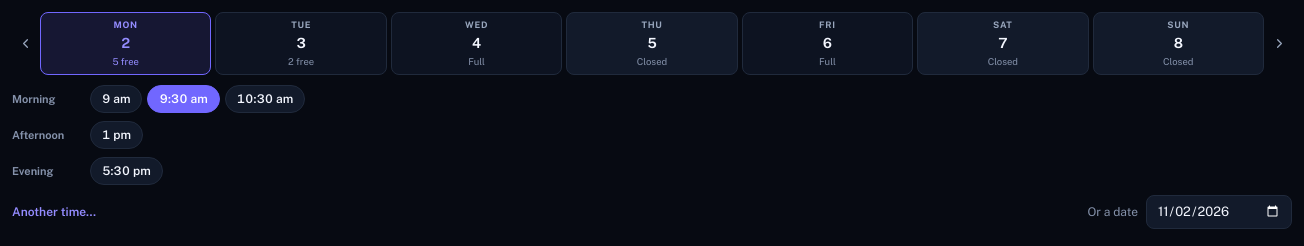
Scenario: the free-time picker › keeps the time chosen while another week is looked at
What coordinates should you click on to do the following:
click the button named "The week after"
I would click on:
 (1279, 43)
Its box is [1266,23,1292,63].
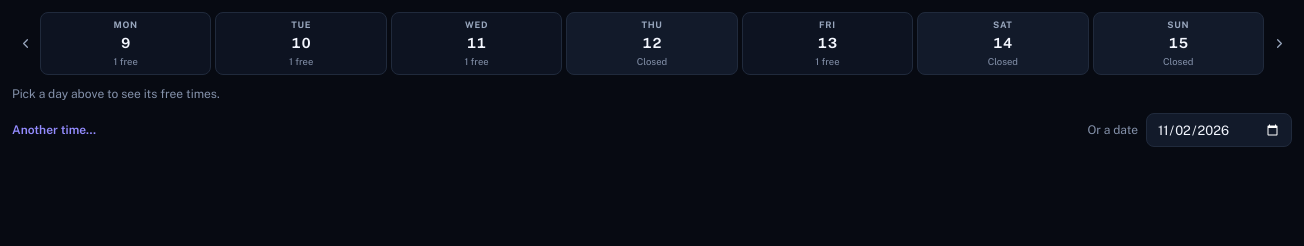
Now the text "Pick a day above to see its free times." is shown, box [12,87,220,101]
